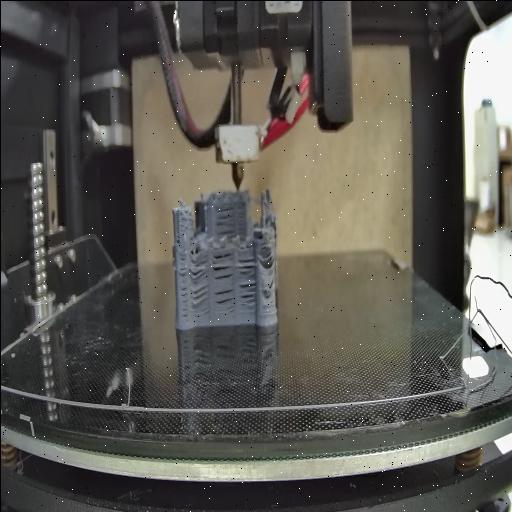cracks: (238, 254, 256, 306), (212, 246, 234, 280), (214, 204, 236, 236), (190, 283, 208, 312), (213, 288, 235, 311), (178, 259, 186, 317), (188, 257, 206, 280), (264, 246, 276, 264), (266, 276, 276, 292), (174, 232, 182, 246)
